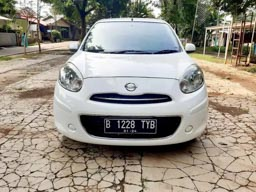plat: (103, 118, 157, 129)
